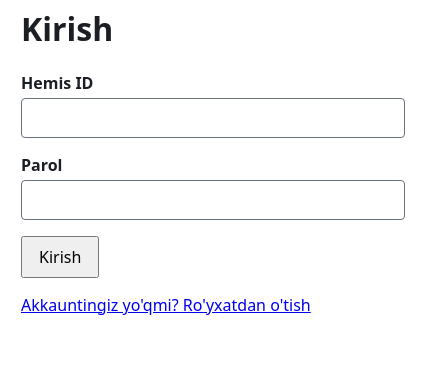
Test case: /login (AUTH-02) › noto'g'ri parol — uz.json dagi xabar
Step 1. Type "1" into the field labelled "Hemis ID" → (213, 118), box x1=21 y1=98 x2=405 y2=138
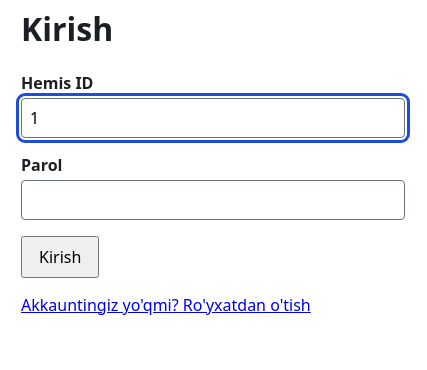
Step 2. Type "x" into the password field labelled "Parol" → (213, 200), box x1=21 y1=180 x2=405 y2=220
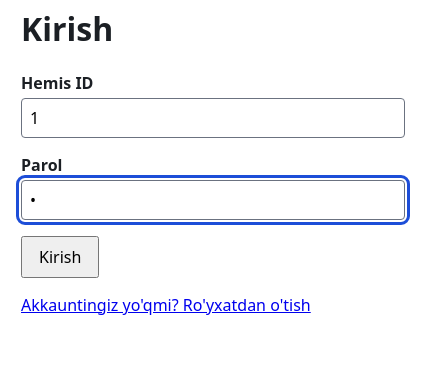
Step 3. Click the button "Kirish" → (60, 257), box x1=21 y1=236 x2=99 y2=278
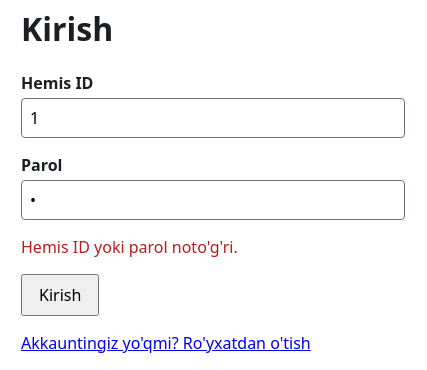
Check: the message reads "Hemis ID yoki parol noto'g'ri.", box x1=21 y1=236 x2=238 y2=258
